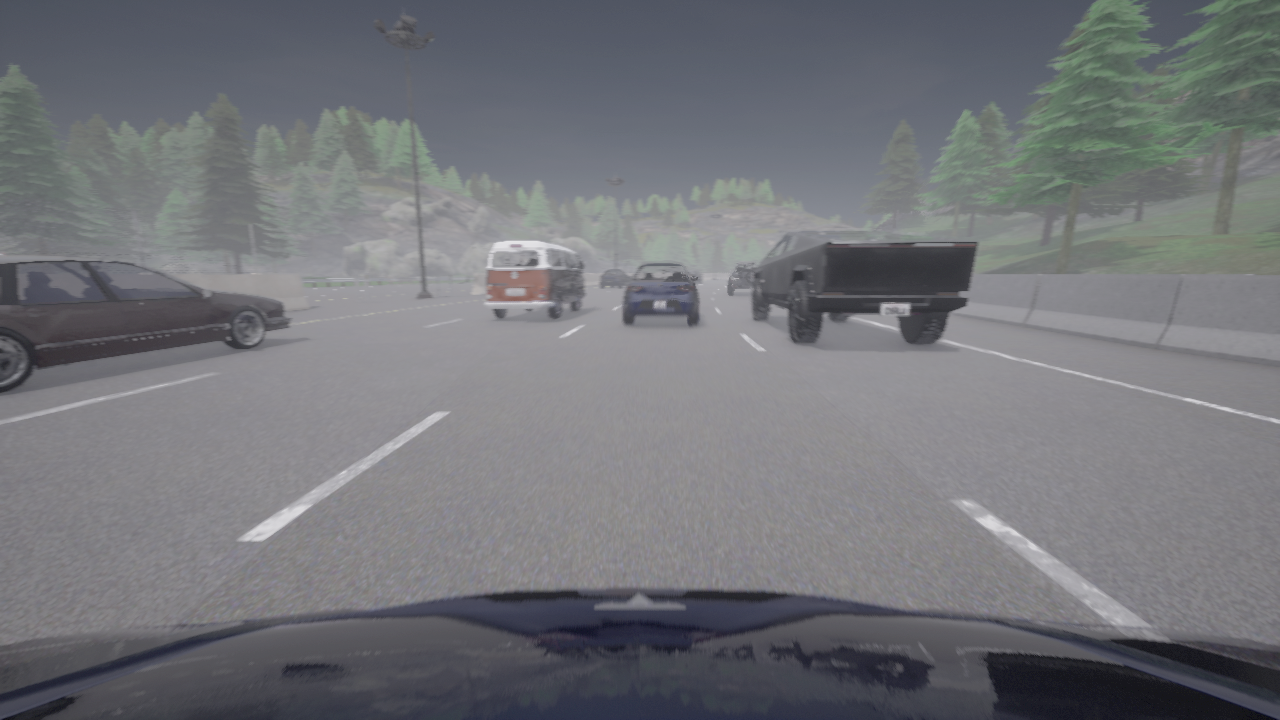cyclist: (0, 588, 1279, 719), (750, 230, 978, 344), (484, 240, 585, 319), (623, 262, 698, 325), (728, 262, 756, 294), (600, 270, 630, 287), (687, 271, 701, 283)
